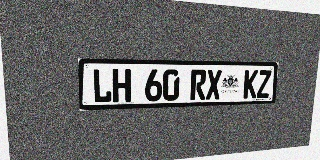0: (162, 69, 180, 101)
6: (145, 69, 162, 102)
H: (112, 69, 131, 103)
K: (243, 70, 258, 99)
L: (92, 69, 112, 103)
R: (190, 70, 206, 100)
X: (206, 70, 222, 100)
Z: (257, 70, 271, 98)
